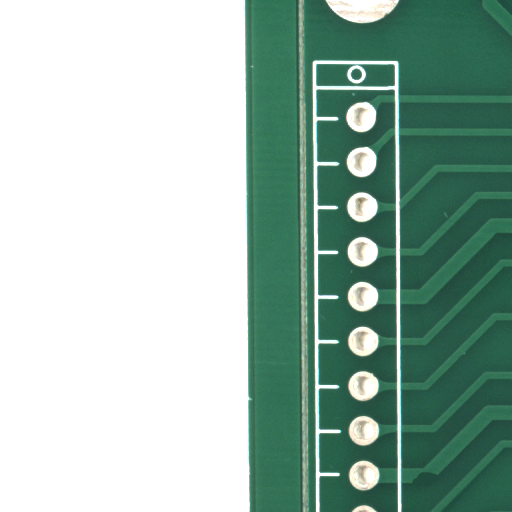Mouse_bite: (424, 478, 460, 496)
